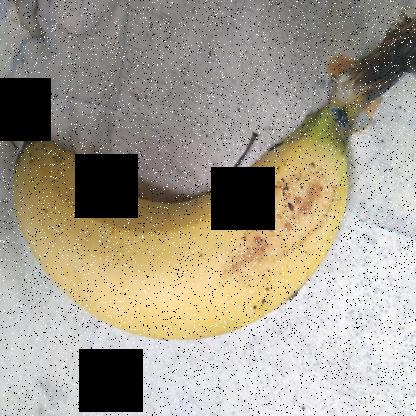freshripe: (7, 115, 367, 346)
